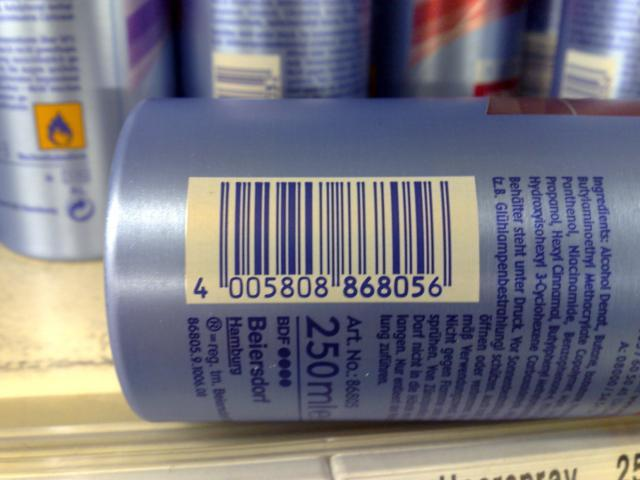Barcode: (185, 178, 458, 304)
